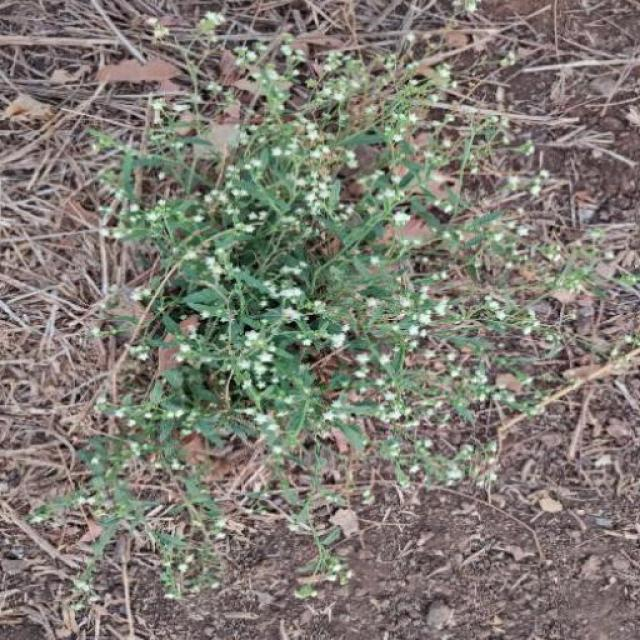weed: (145, 56, 573, 460)
